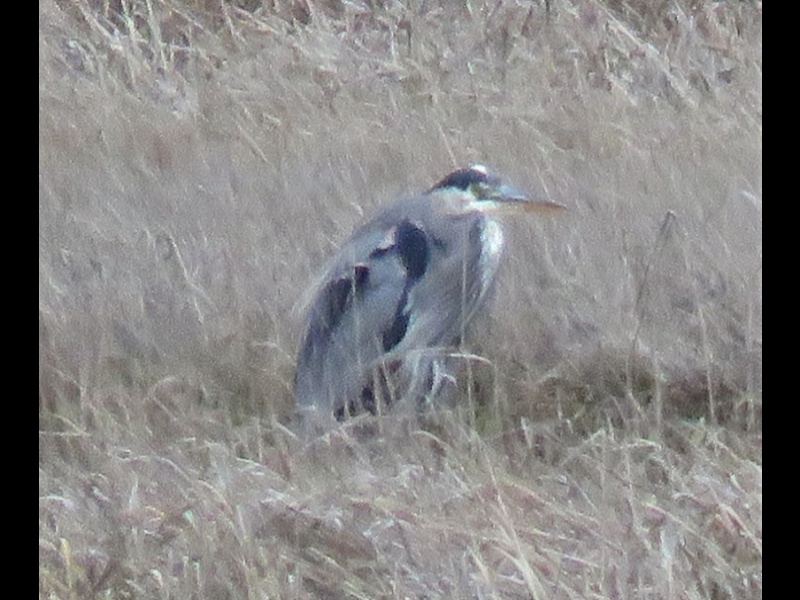heron: (288, 161, 569, 444)
